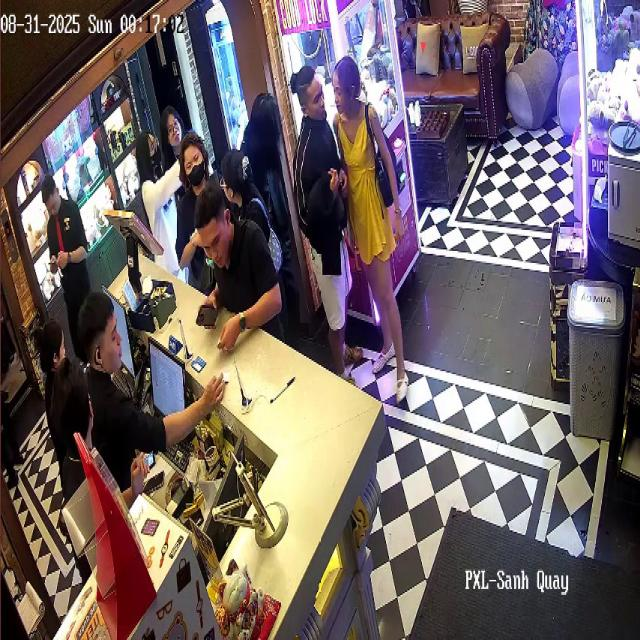khach: (330, 49, 408, 410), (294, 53, 342, 315), (197, 200, 266, 328), (135, 124, 185, 269), (222, 153, 284, 268), (181, 138, 222, 238), (162, 101, 186, 162)
nhan vien: (75, 302, 188, 472), (37, 170, 99, 330), (52, 363, 94, 509), (34, 307, 72, 383)
